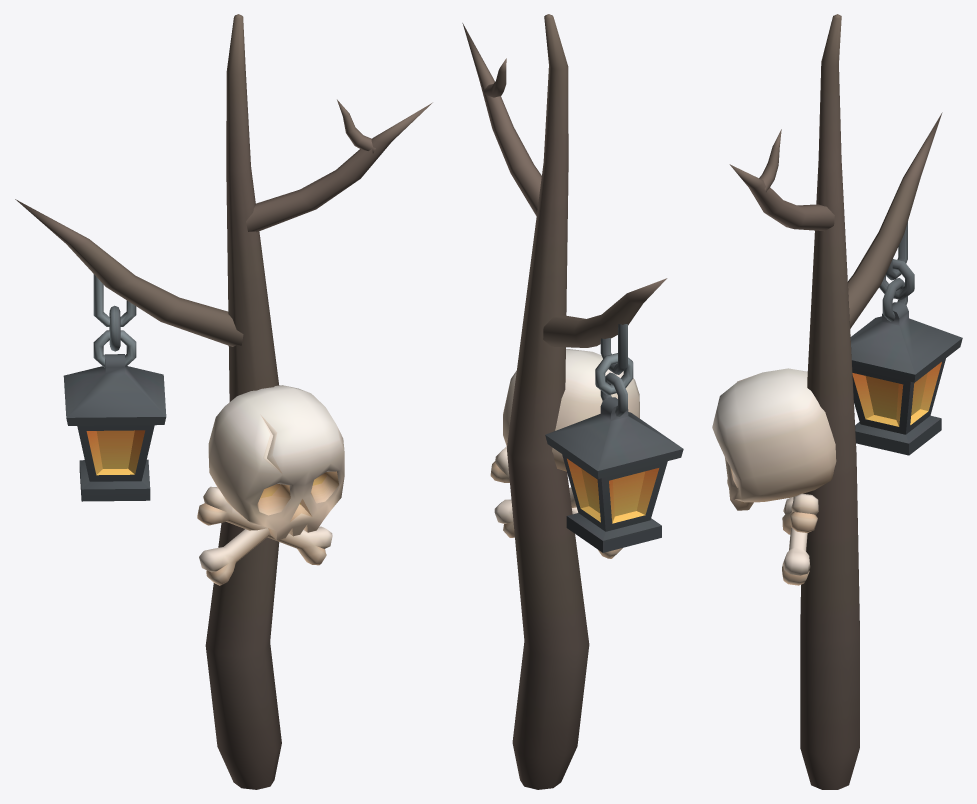
Rendered from tree_dead_large_decorated.glb.
3 views of the same model, side by side, from view 1: azimuth 30°, elevation 25°; view 2: azimuth 150°, elevation 25°; view 3: azimuth 270°, elevation 25° (orthographic).
Visible parts, largest first — view 1: tree_dead_large_decorated; view 2: tree_dead_large_decorated; view 3: tree_dead_large_decorated.
Part boxes in pixels (box(x1,y1,x2,y2)): tree_dead_large_decorated: box(15, 14, 432, 789); tree_dead_large_decorated: box(462, 14, 683, 789); tree_dead_large_decorated: box(712, 14, 962, 789).
Size of the model in its own units: 2.3 by 5.42 by 1.61.
Materials: 1 (1 with a texture image).
